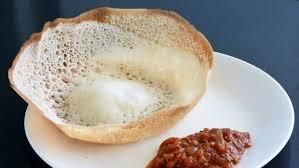Hoppers: (11, 2, 216, 127)
Lunu sambol: (149, 126, 257, 168)
